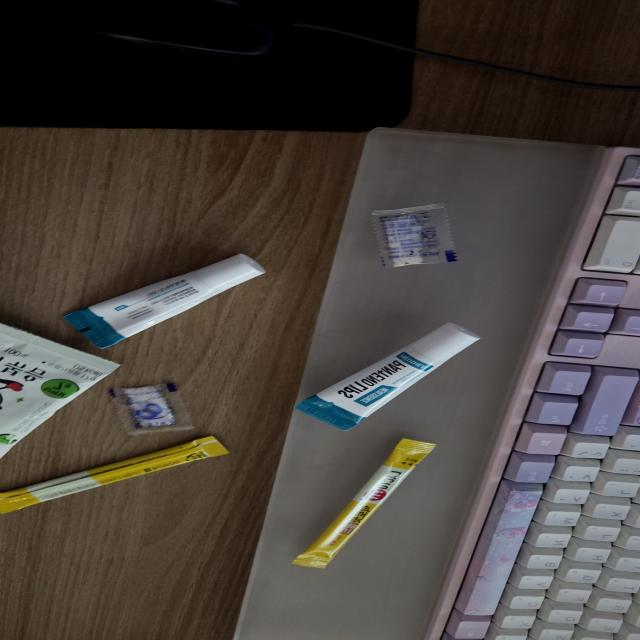lacto: (291, 436, 449, 570), (1, 434, 234, 514)
lib: (294, 322, 482, 431), (62, 253, 268, 349)
salt: (372, 201, 458, 273), (108, 380, 195, 436)
